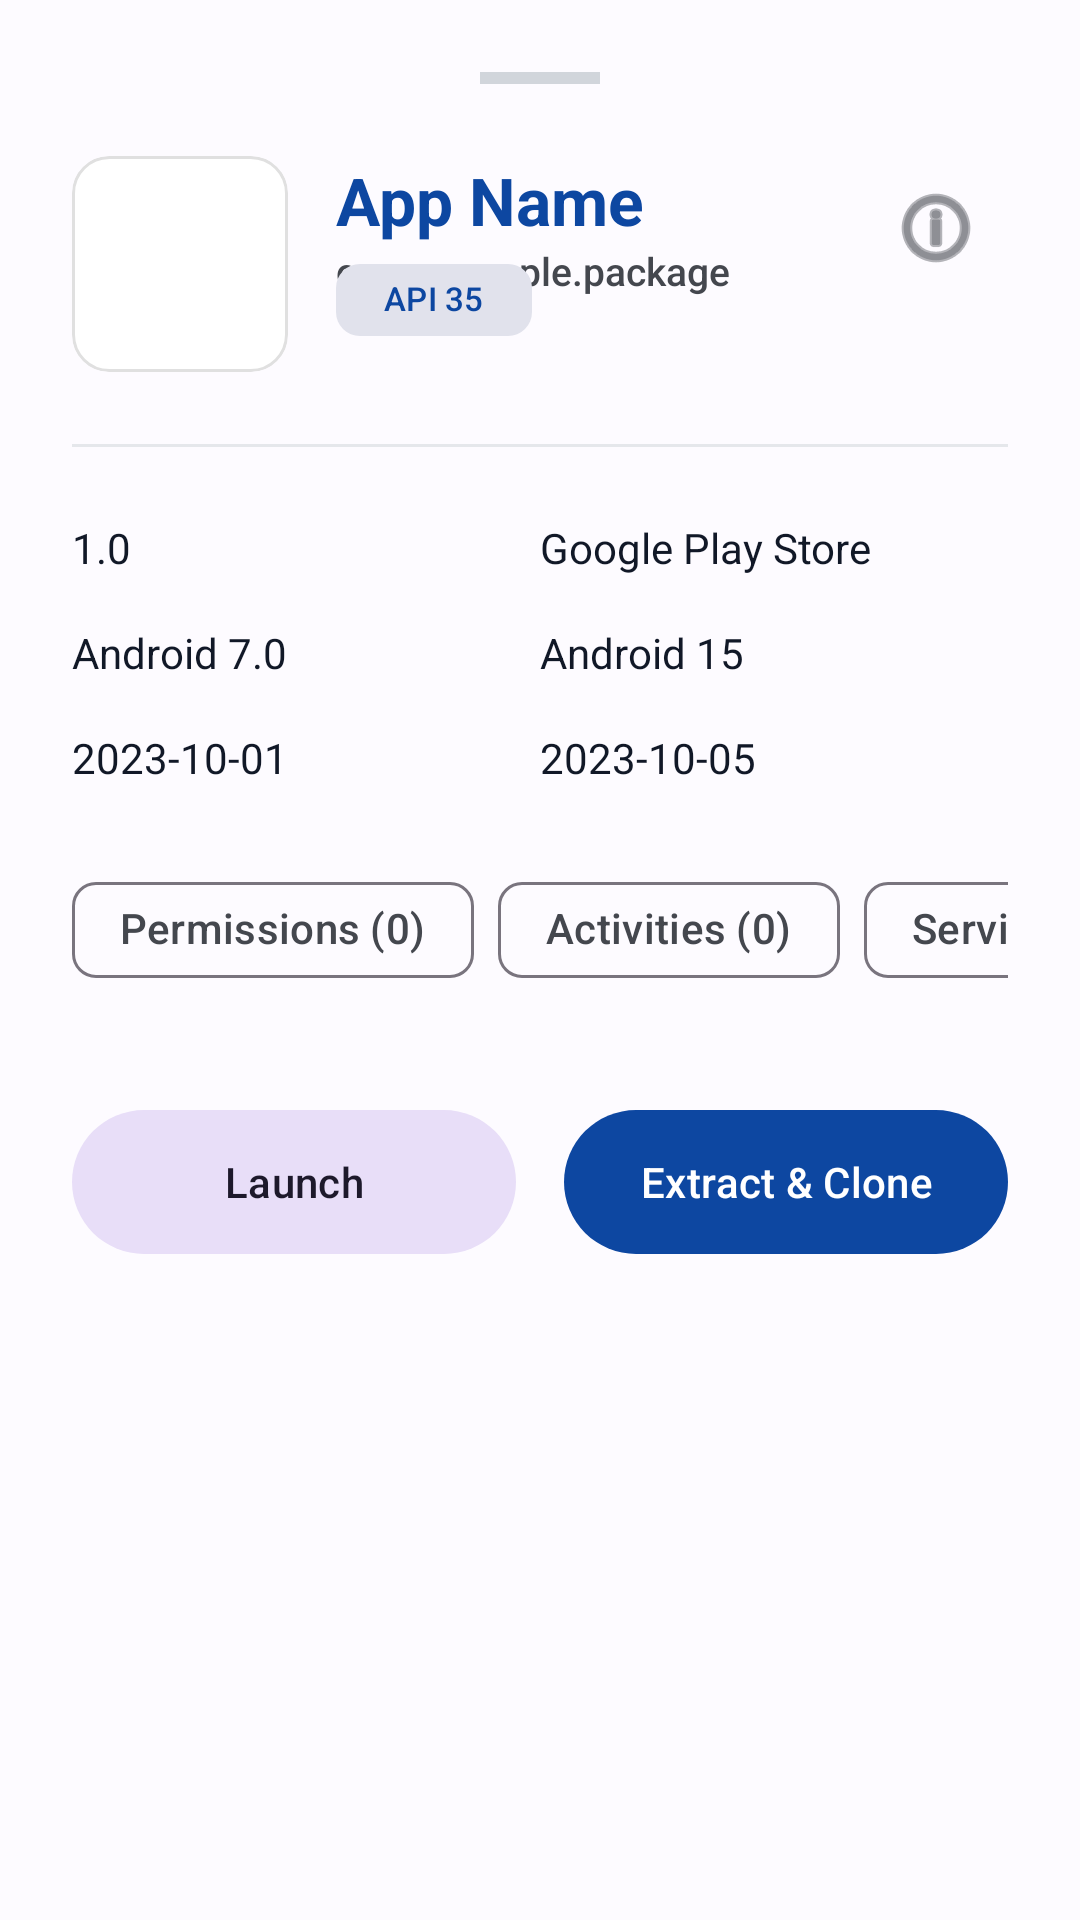

Point at icon controls on the screen. Image size 1080px x 1920px, points as point (x, y).
App info: point (936, 228)
